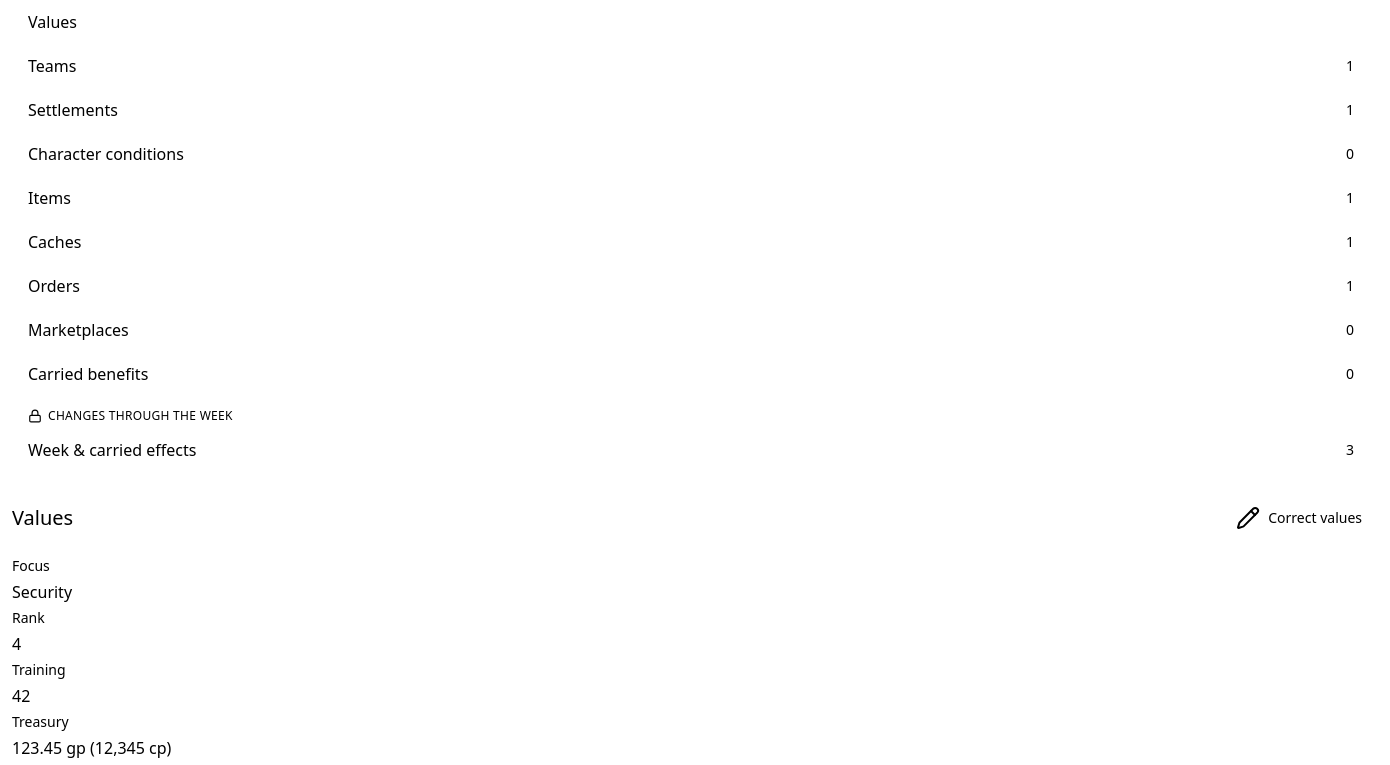
Scenario: read view › Week & carried effects is read-only: week facts, carried events, queued effects and bonuses without controls
Step 1. Click the button "Week & carried effects 3" → point(112, 450), box [12, 428, 1370, 472]
(page scrolled)
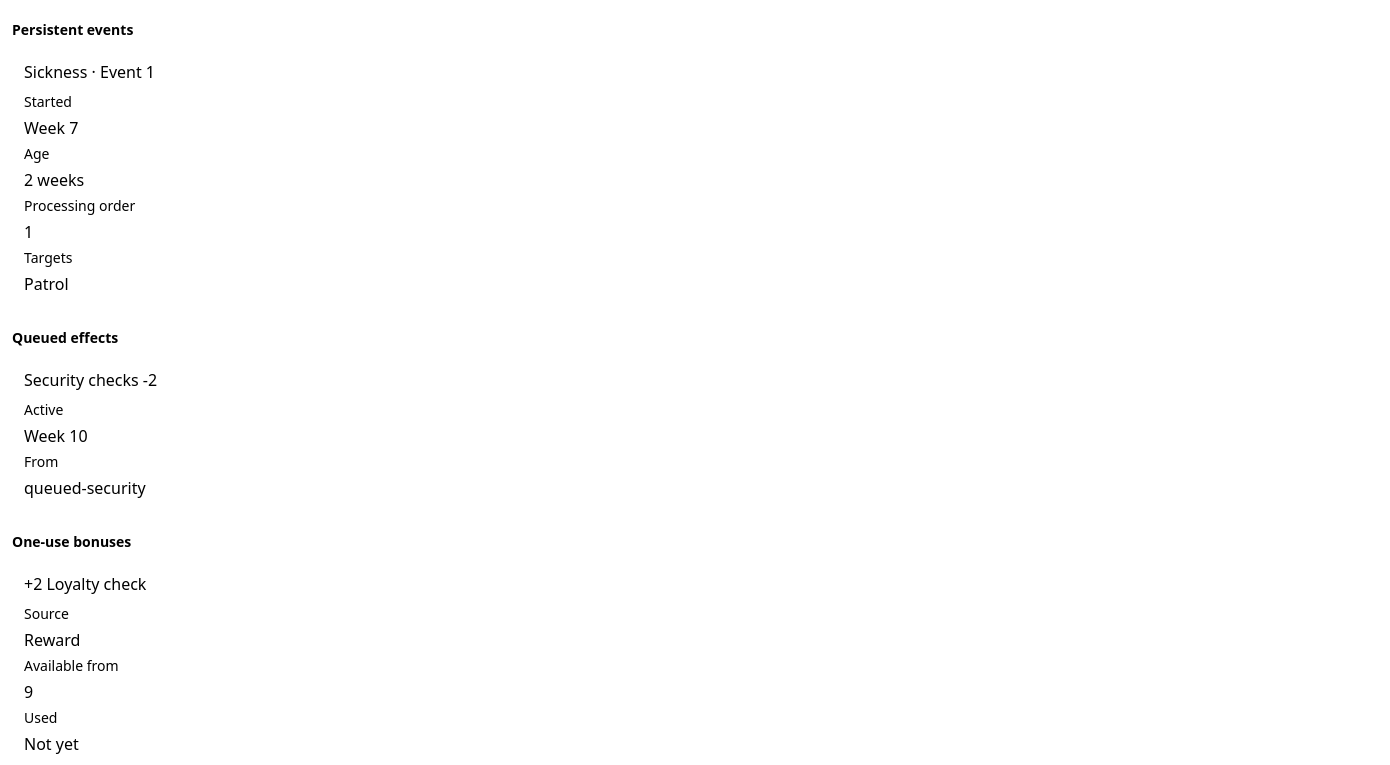
Result: the heading "Sickness · Event 1" is shown at [24, 61, 155, 83]
Result: the text "Patrol" is shown at [24, 273, 68, 295]
Result: the heading "+2 Loyalty check" is shown at [24, 573, 146, 595]
